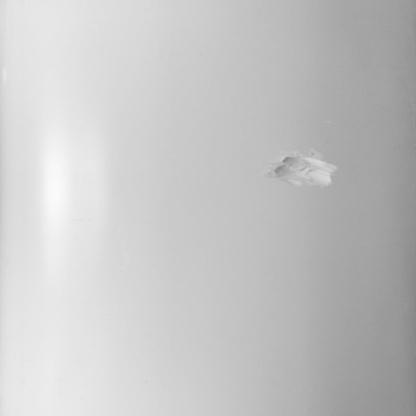sunshang: (262, 143, 354, 194)
